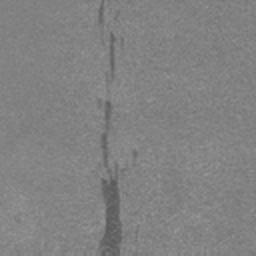Red iron sheet: (99, 101, 123, 256), (110, 32, 116, 78), (98, 2, 104, 24)
